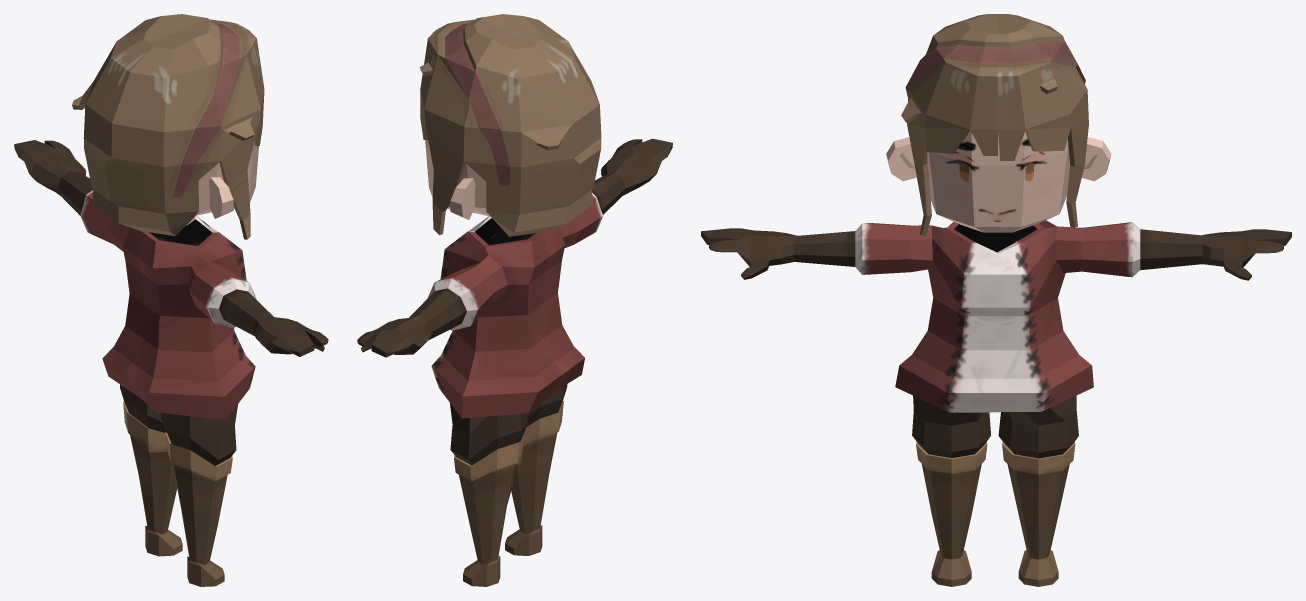
Rendered from Aine.fbx.
3 views of the same model, side by side, from view 1: azimuth 30°, elevation 25°; view 2: azimuth 150°, elevation 25°; view 3: azimuth 270°, elevation 25° (orthographic). The views are drawn at different scales.
Visible parts, largest first — view 1: Aine, AineHair; view 2: Aine, AineHair; view 3: Aine, AineHair.
Boxes of the visible parts, x1=… form: Aine: x1=14, y1=140, x2=328, y2=586; AineHair: x1=72, y1=14, x2=264, y2=239; Aine: x1=357, y1=138, x2=672, y2=586; AineHair: x1=419, y1=14, x2=601, y2=236; Aine: x1=701, y1=130, x2=1291, y2=586; AineHair: x1=901, y1=14, x2=1088, y2=235.
Bounding box in the file's own units: 109 × 355 × 342.
2 materials, 2 textured.
